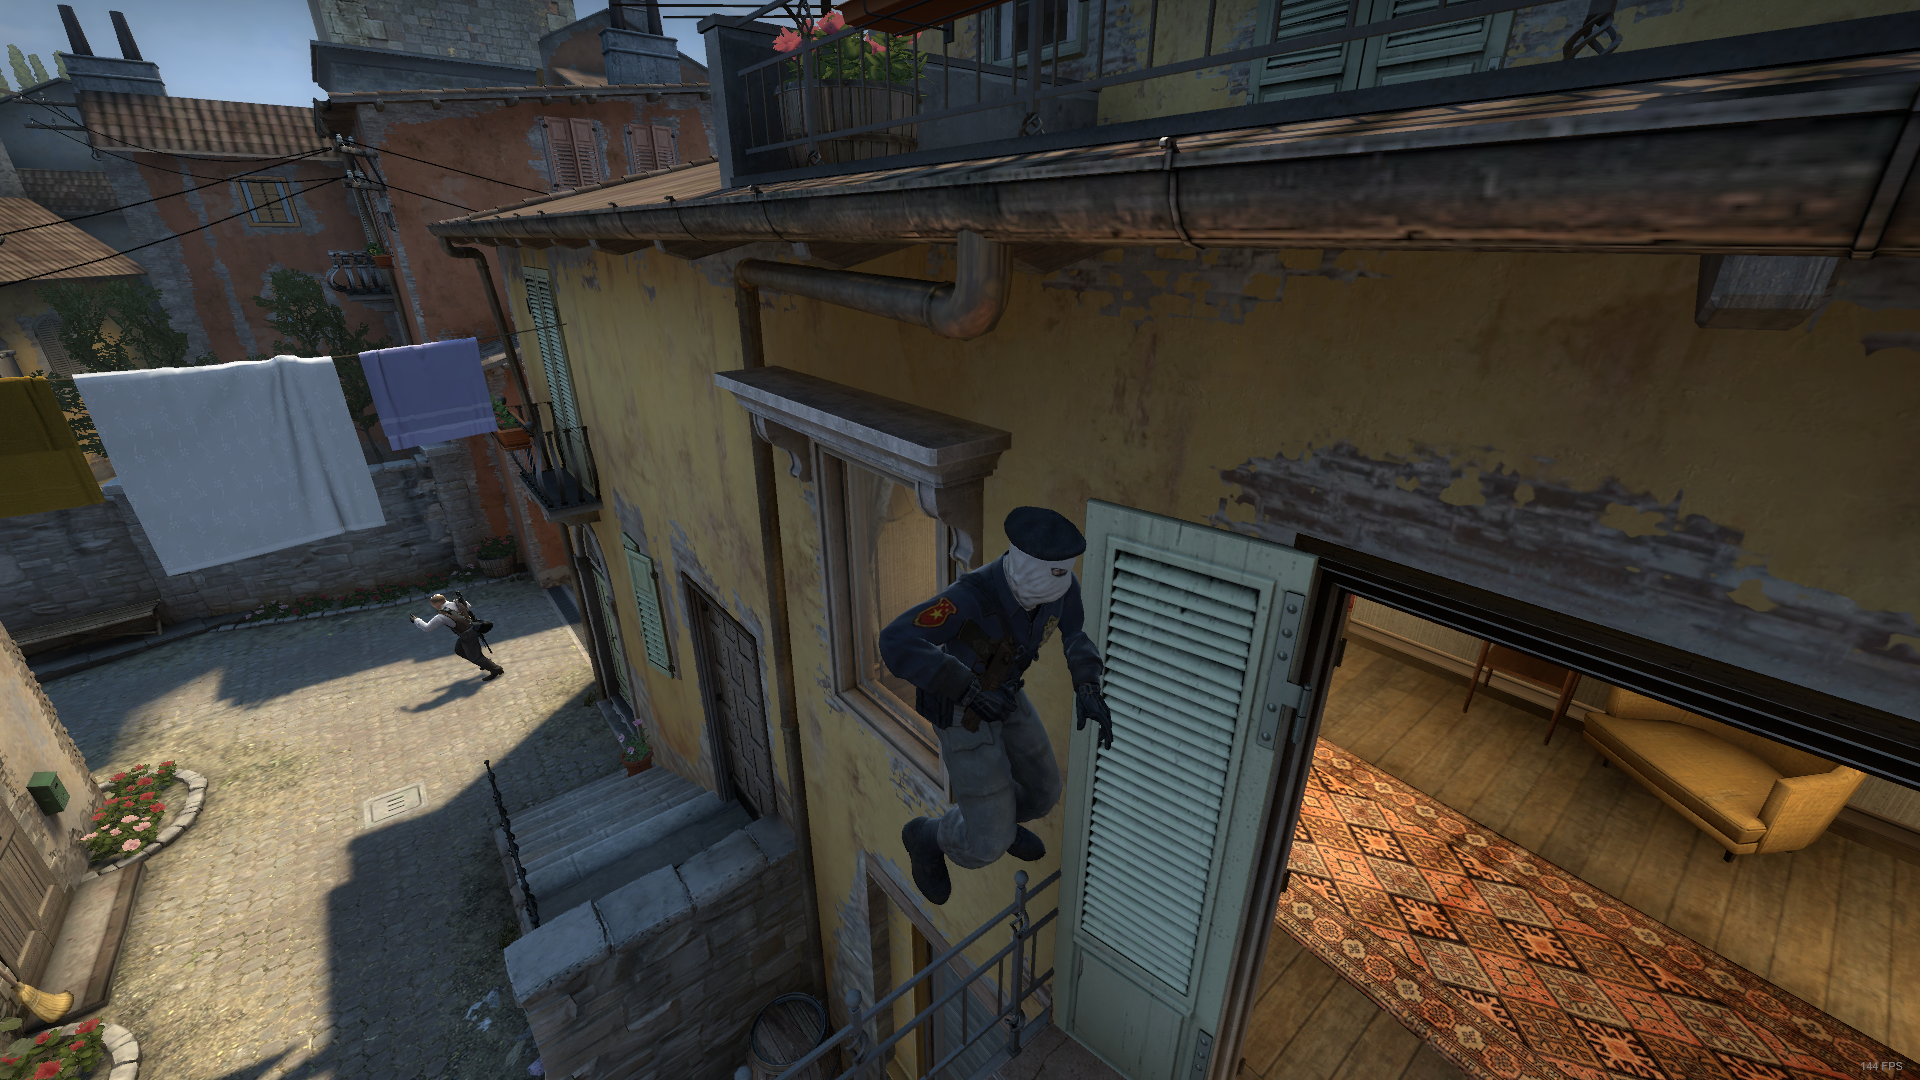t: (864, 492, 1125, 920)
